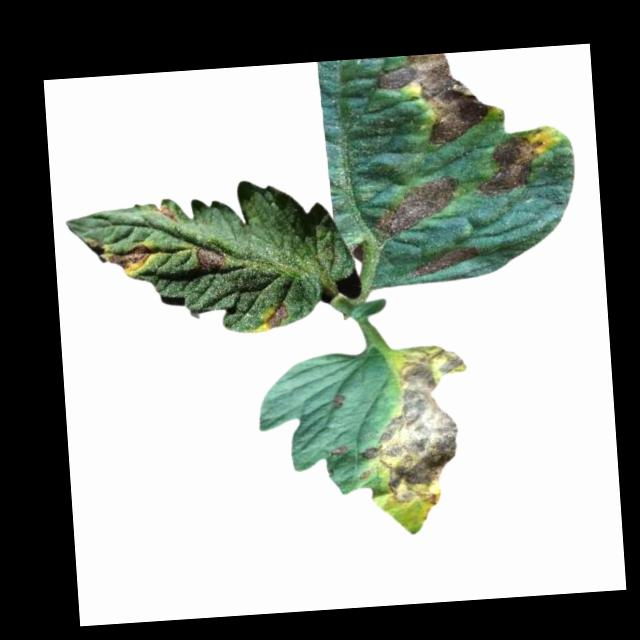Early_blight: (356, 343, 477, 510), (376, 51, 496, 148), (375, 172, 463, 239), (474, 128, 550, 196), (406, 241, 485, 279), (109, 240, 155, 276), (195, 242, 225, 270), (263, 300, 289, 328), (156, 200, 179, 226), (328, 391, 346, 410)
